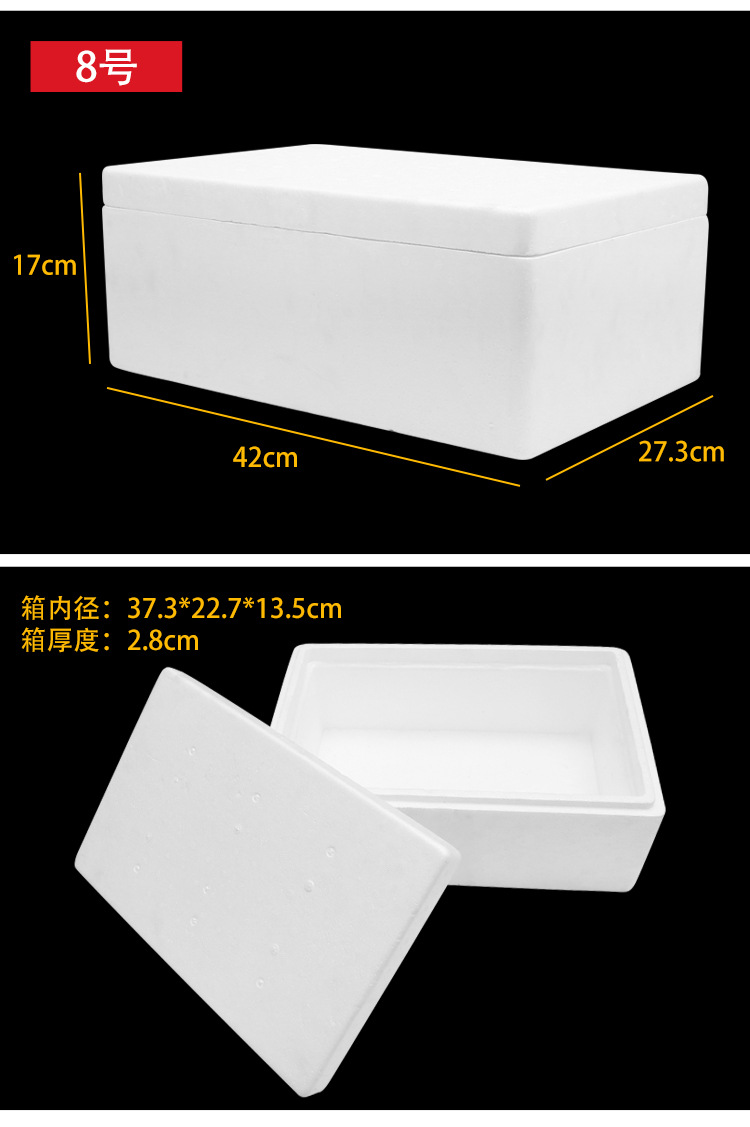Boxes: (75, 645, 664, 1097), (102, 146, 708, 460)
